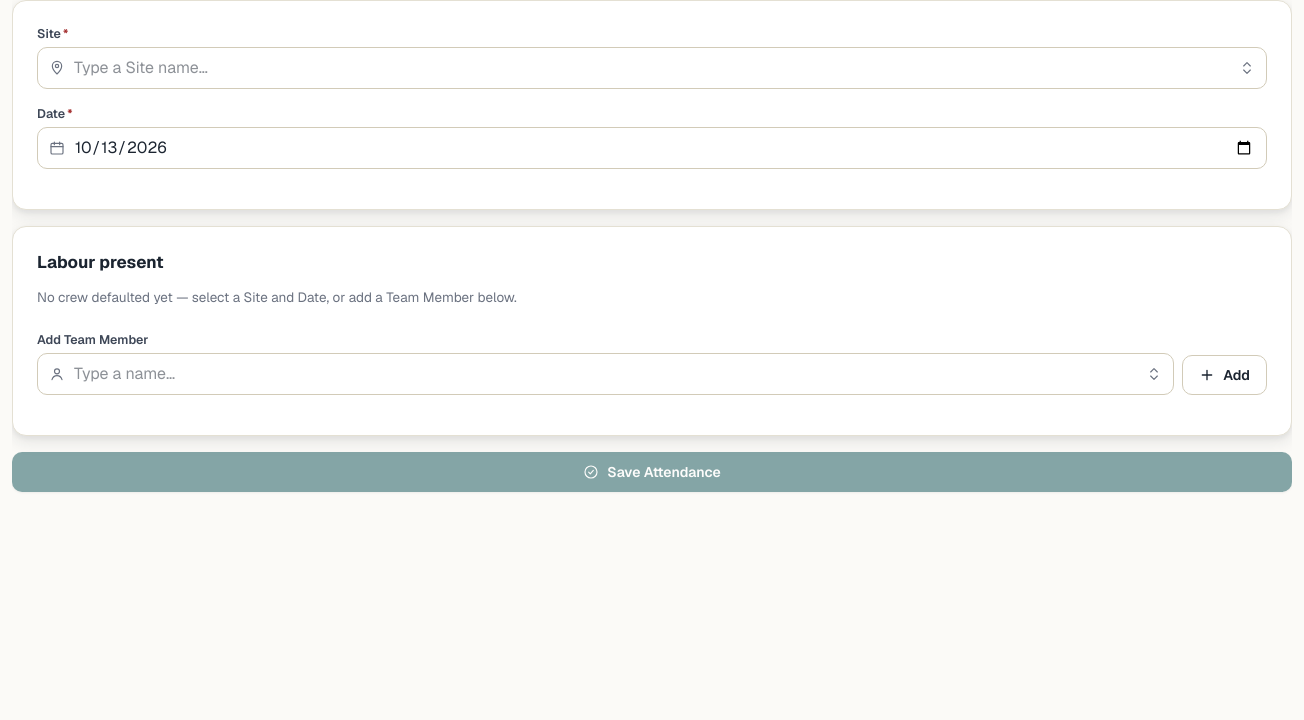
Test: WorkRecordForm › defaults every returned crew member to Present, even one marked absent on the prior date
# SiteField is a searchable combobox: type, then click the option.
Step 1. Type "NH-48" into the dropdown labelled "Site" → x=652, y=68, box x1=37 y1=47 x2=1267 y2=89
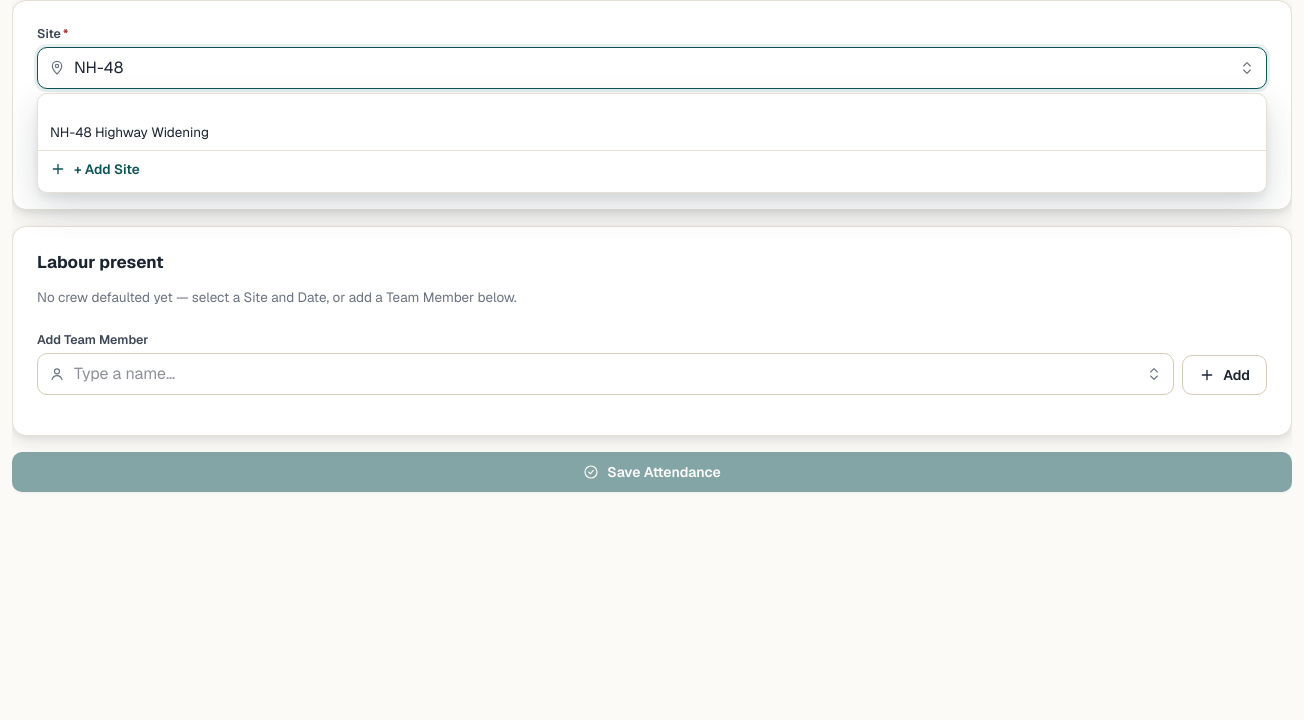
Step 2. Click the option "NH-48 Highway Widening" → x=130, y=132, box x1=50 y1=123 x2=209 y2=141
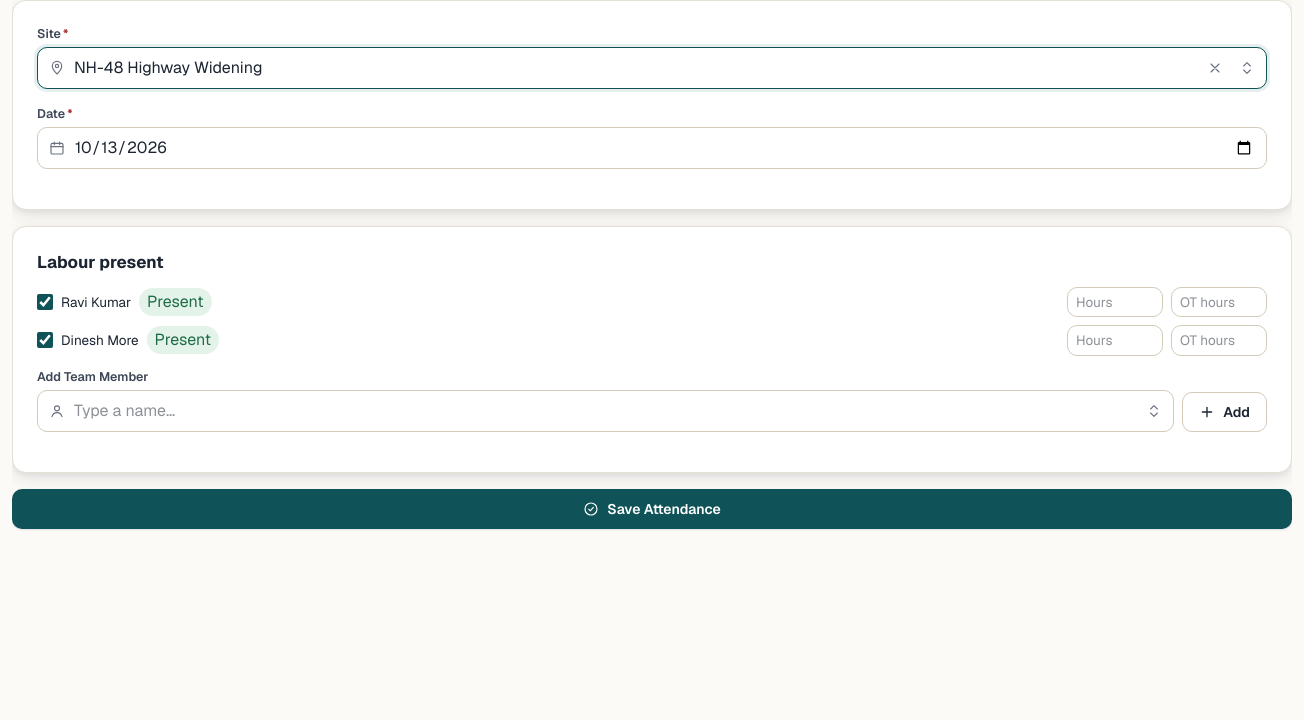
Check: the text "Dinesh More" is shown, box x1=61 y1=330 x2=139 y2=351
Check: the text "Present" is shown 2 times, box x1=139 y1=288 x2=212 y2=316; x1=147 y1=326 x2=219 y2=354
